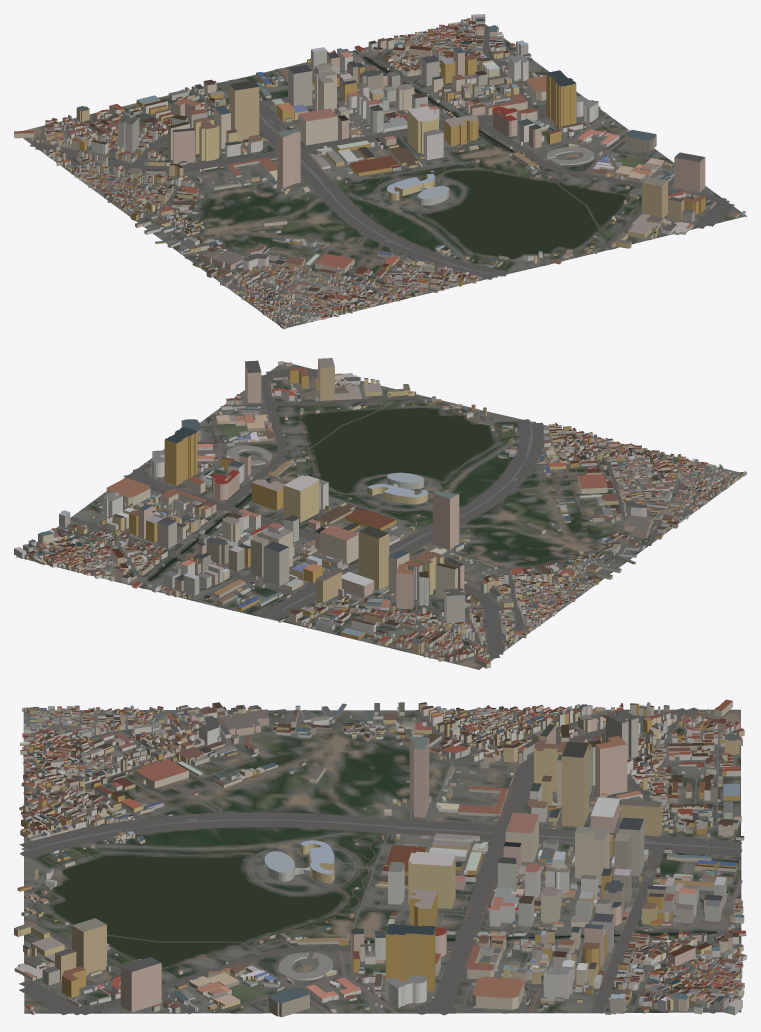
3 renders of one model, top to bottom at view 1: azimuth 30°, elevation 25°; view 2: azimuth 150°, elevation 25°; view 3: azimuth 270°, elevation 25°, orthographic. The views are drawn at different scales.
Visible parts, largest first — view 1: buildings, ground, roads, water; view 2: buildings, ground, roads, water; view 3: buildings, ground, roads, water.
Part boxes in pixels (<box>): buildings: <box>14,14,745,329</box>; ground: <box>23,24,746,327</box>; roads: <box>24,26,734,327</box>; water: <box>353,50,625,265</box>; buildings: <box>14,358,746,668</box>; ground: <box>16,362,742,669</box>; roads: <box>23,369,737,667</box>; water: <box>141,394,493,588</box>; buildings: <box>14,699,746,1017</box>; ground: <box>23,709,741,1013</box>; roads: <box>19,707,742,1015</box>; water: <box>24,855,730,965</box>.
Bounding box in the file's own units: 1443 × 155 × 1433.
